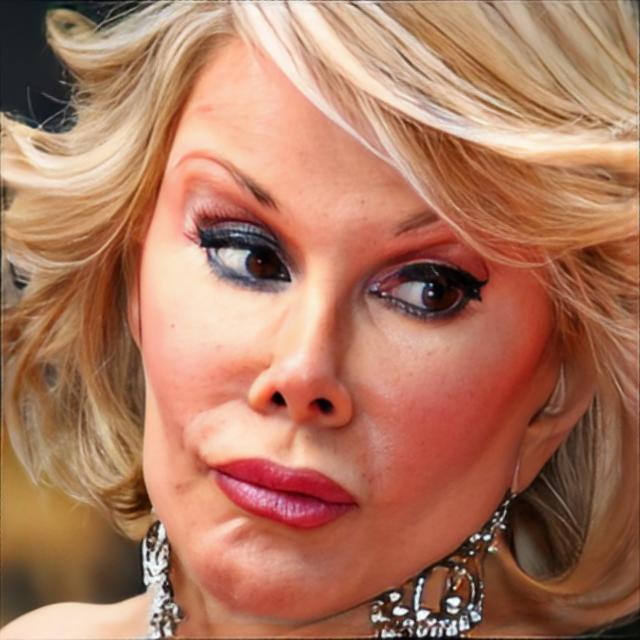surprise: (135, 16, 564, 624)
